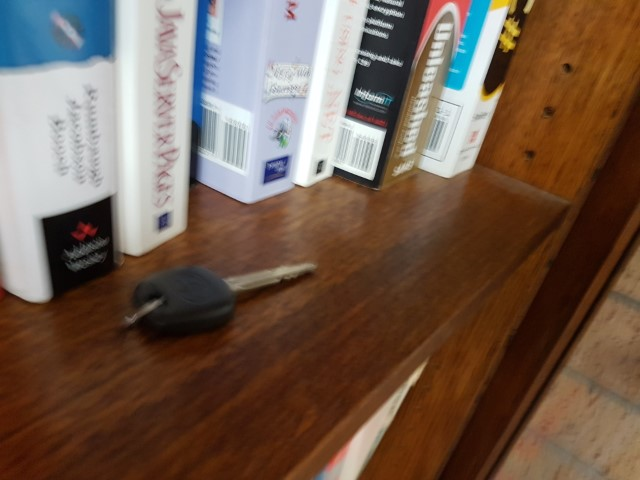key: (140, 260, 314, 329)
